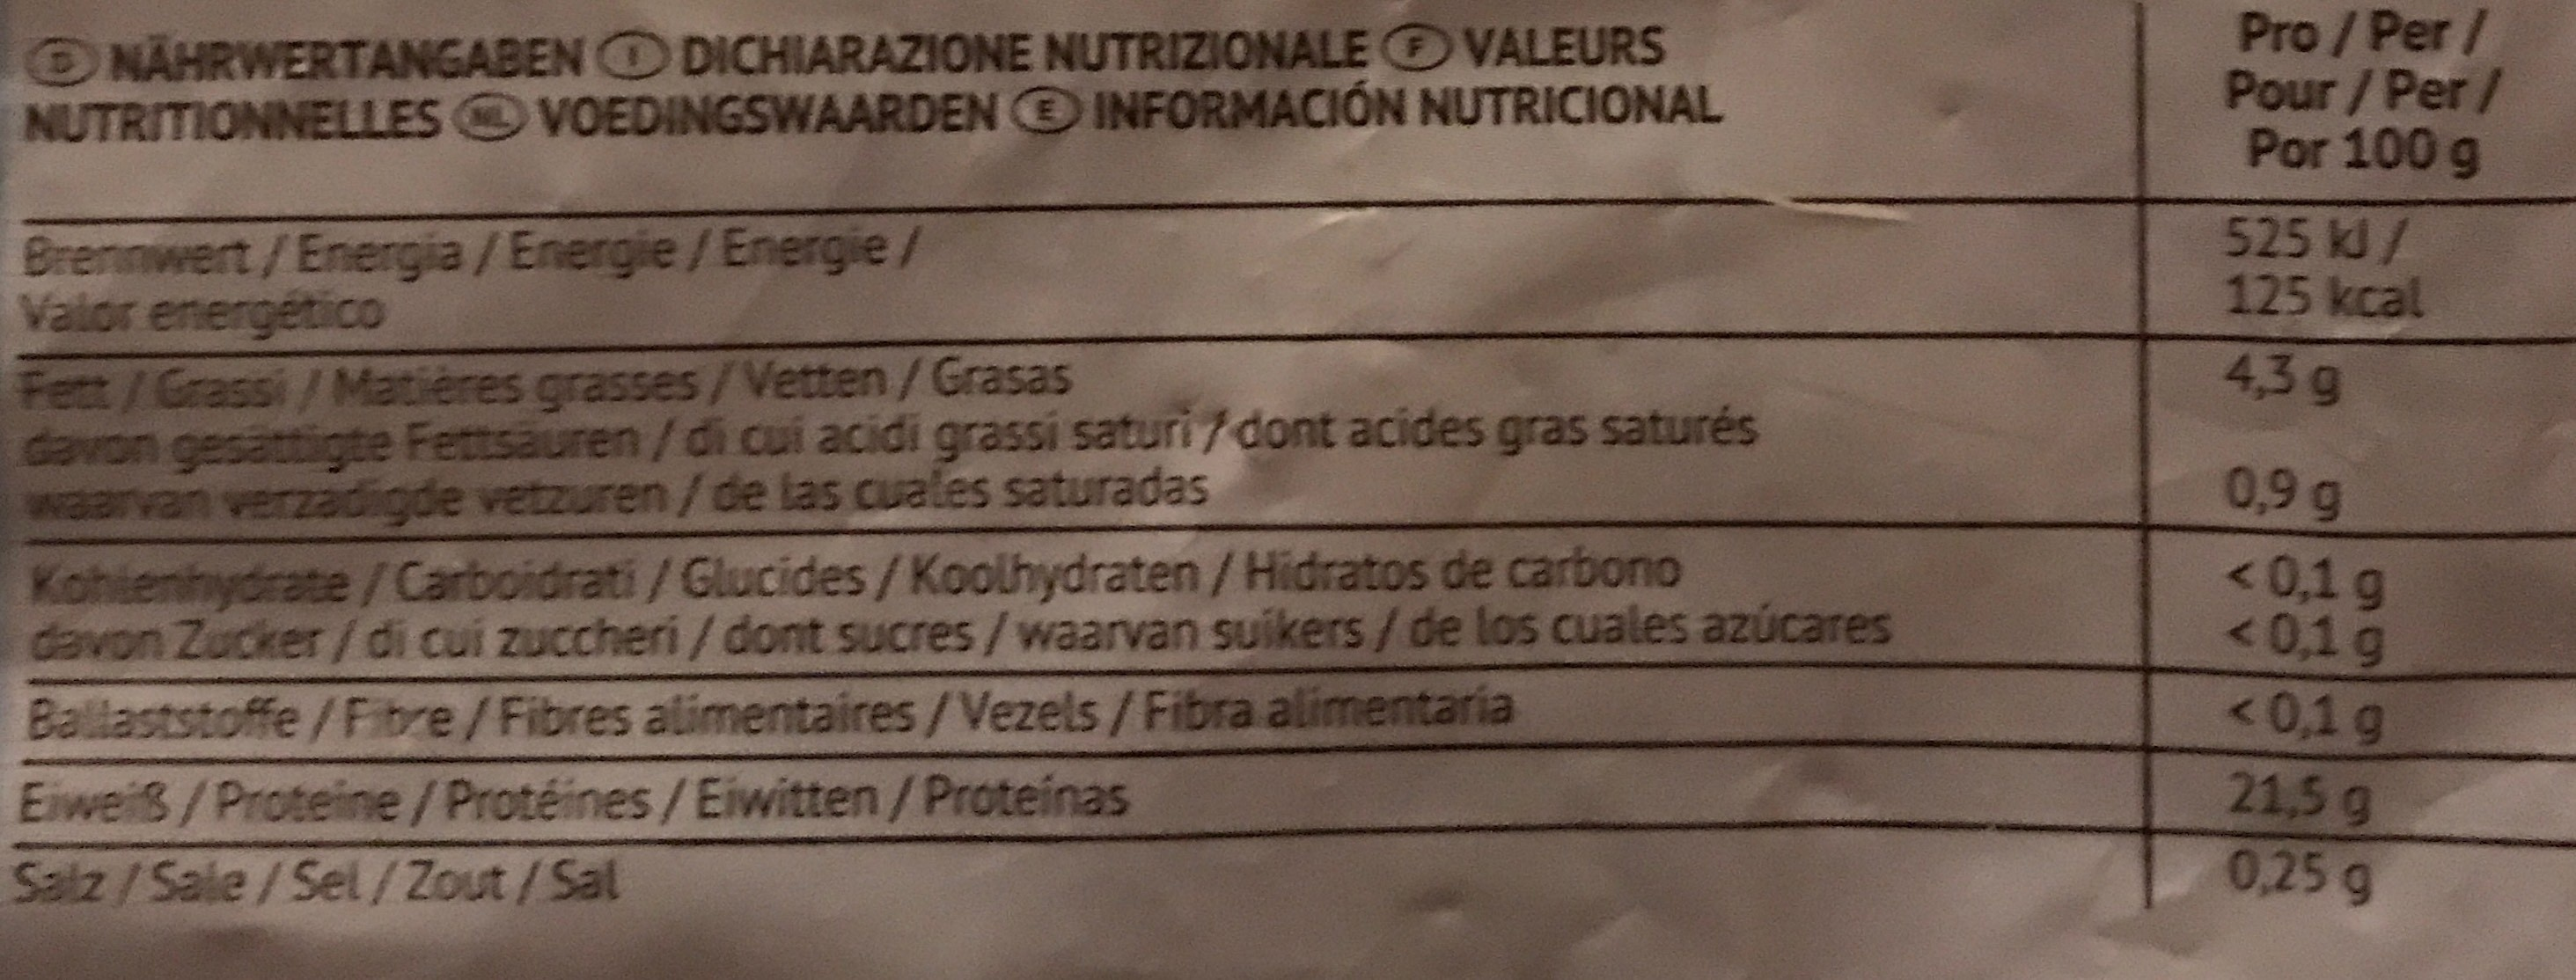column: (21, 25, 1896, 904), (2219, 15, 2500, 909)
table: (10, 13, 2507, 932)
